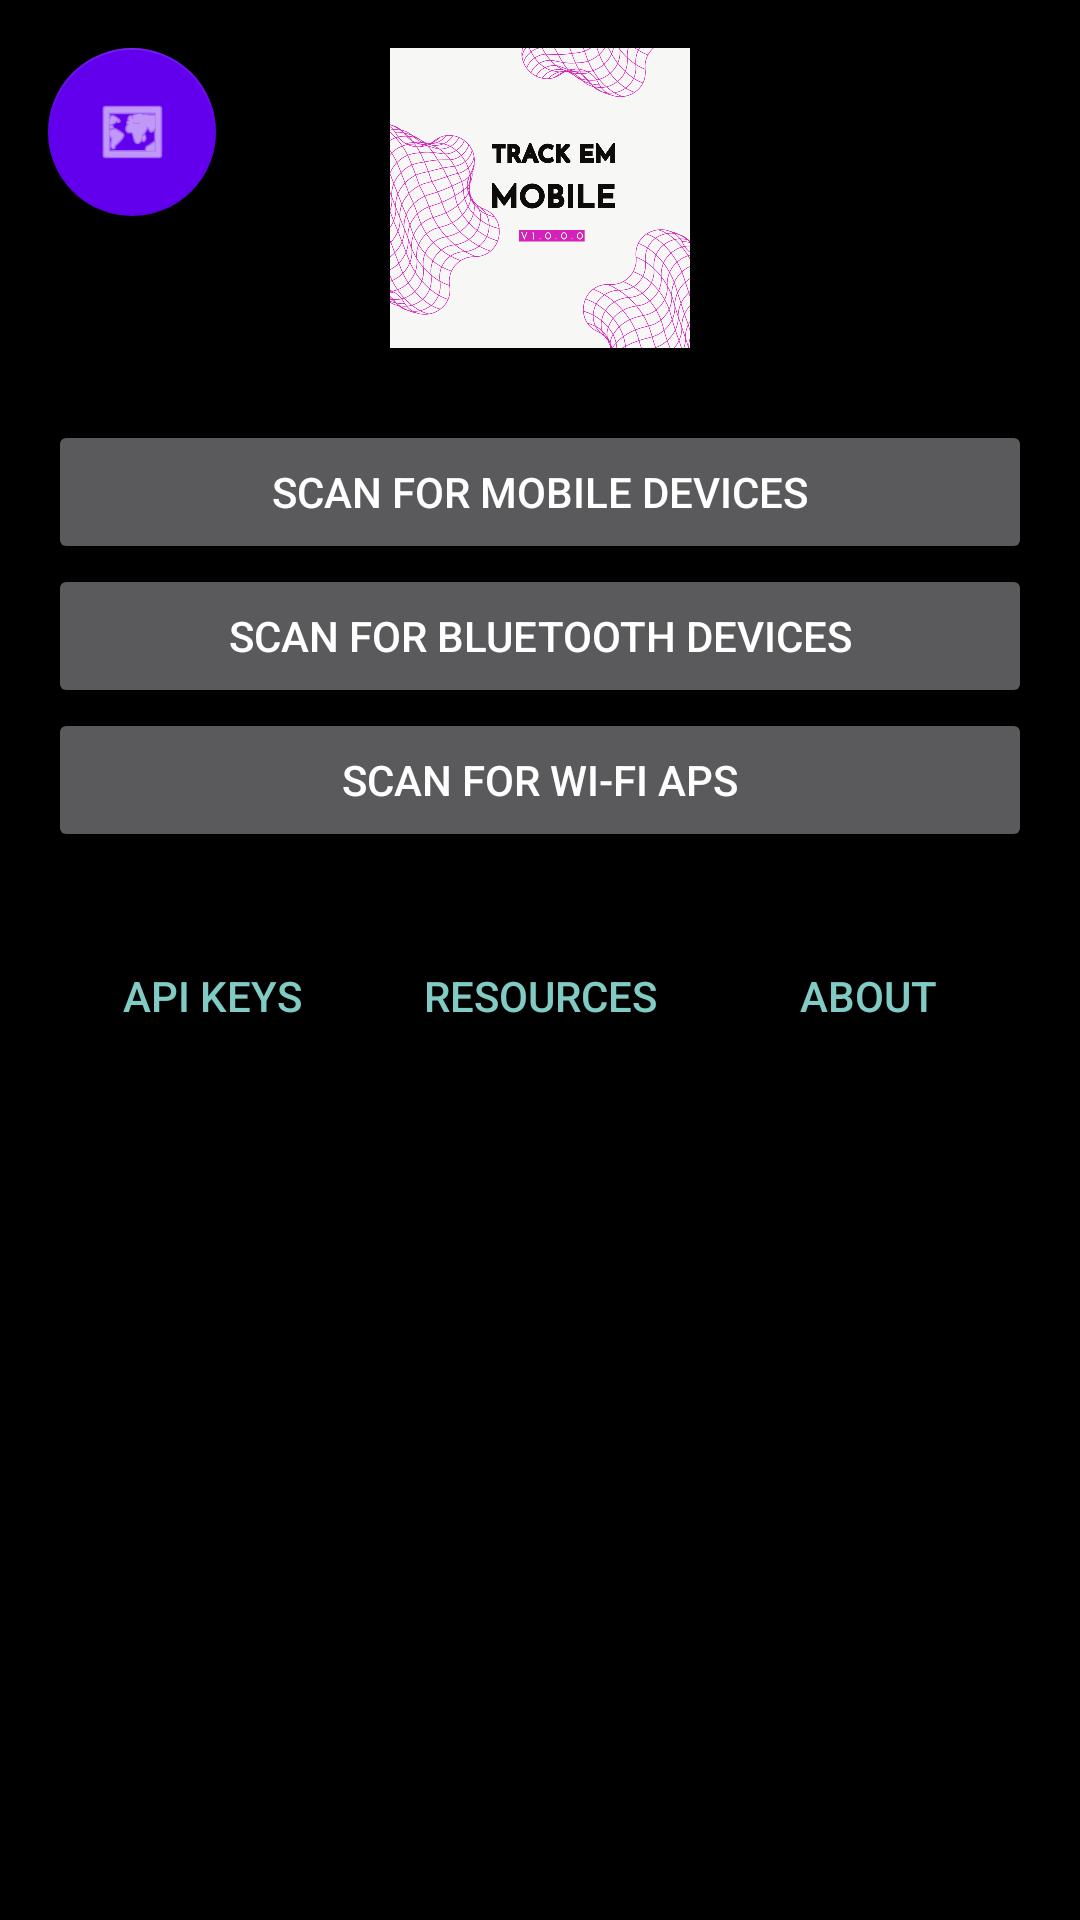

Screen size 1080px x 1920px. Icon name, then its box in pixels as (x1, y1, x2, y2):
mapmode: (48, 48, 216, 216)
